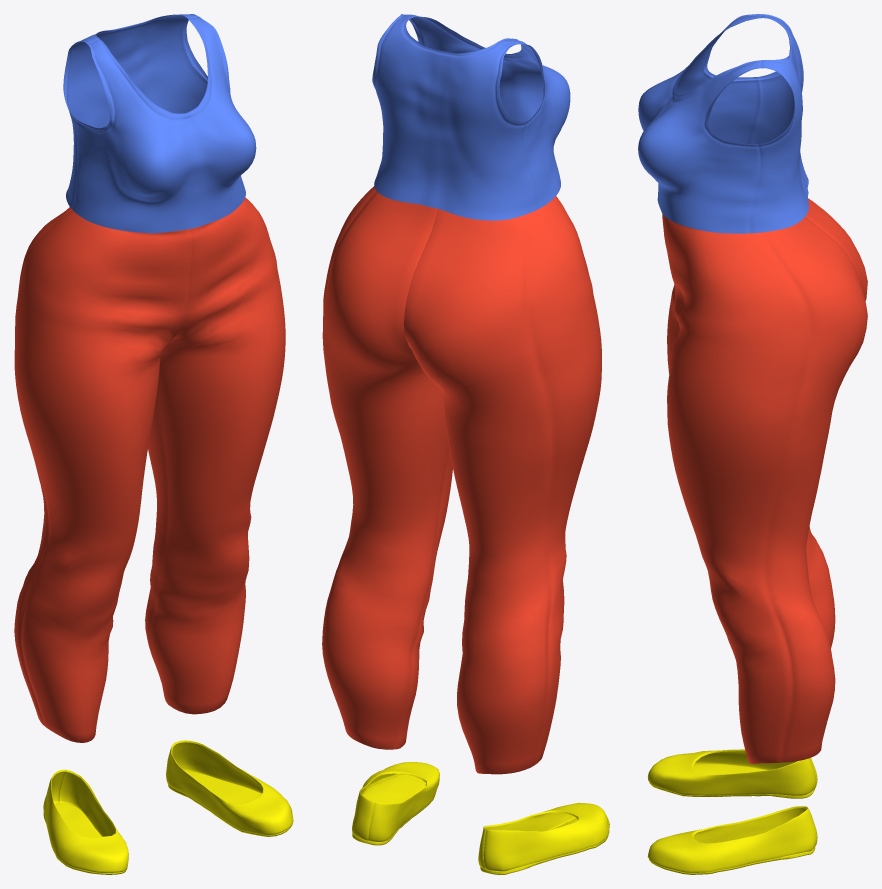
The model's file is Clothes_V1.fbx.
3 renders of one model, left to right at view 1: azimuth 30°, elevation 25°; view 2: azimuth 150°, elevation 25°; view 3: azimuth 270°, elevation 25°, orthographic. The views are drawn at different scales.
Visible parts, largest first — view 1: Pants, Top, Shoes; view 2: Pants, Top, Shoes; view 3: Pants, Top, Shoes.
Part boxes in pixels (<box>): Pants: <box>14,197,285,742</box>; Top: <box>63,14,256,233</box>; Shoes: <box>43,740,293,874</box>; Pants: <box>322,186,601,774</box>; Top: <box>372,14,570,220</box>; Shoes: <box>352,762,609,874</box>; Pants: <box>662,198,867,763</box>; Top: <box>638,14,808,233</box>; Shoes: <box>647,749,817,874</box>.
Size of the model in its own units: 39.71 by 120 by 31.89.
